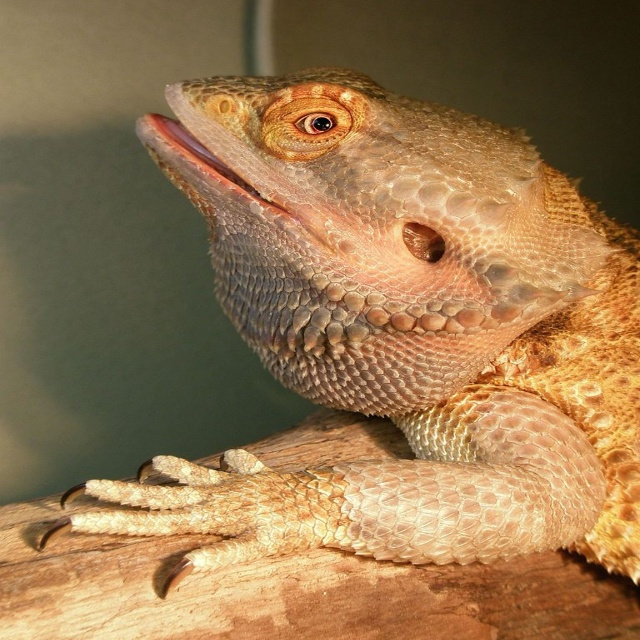Lizard: (64, 58, 639, 602)
